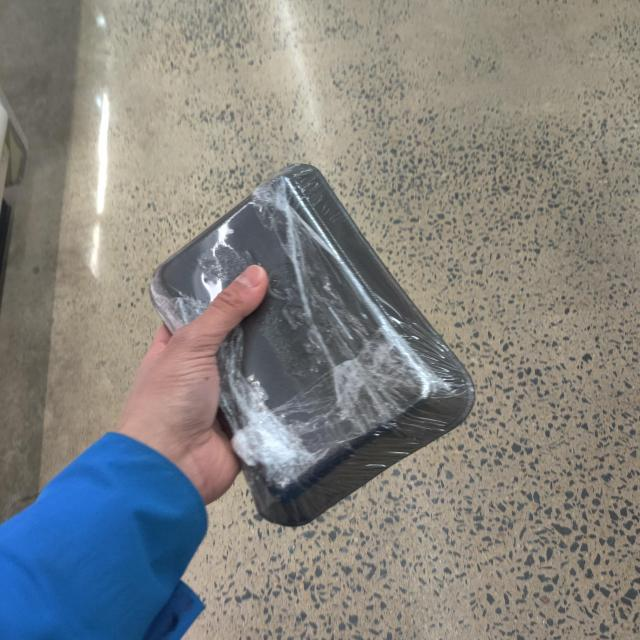Meat: (127, 150, 483, 532)
